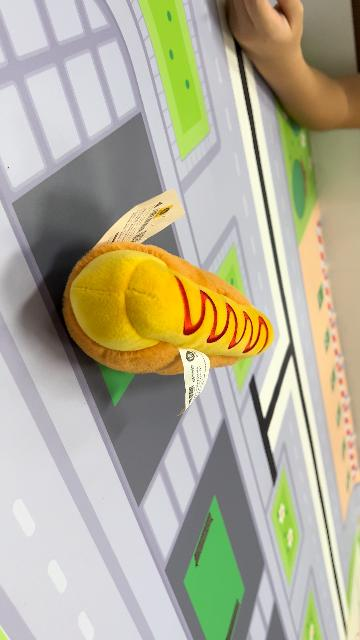hotdog: (62, 240, 276, 378)
